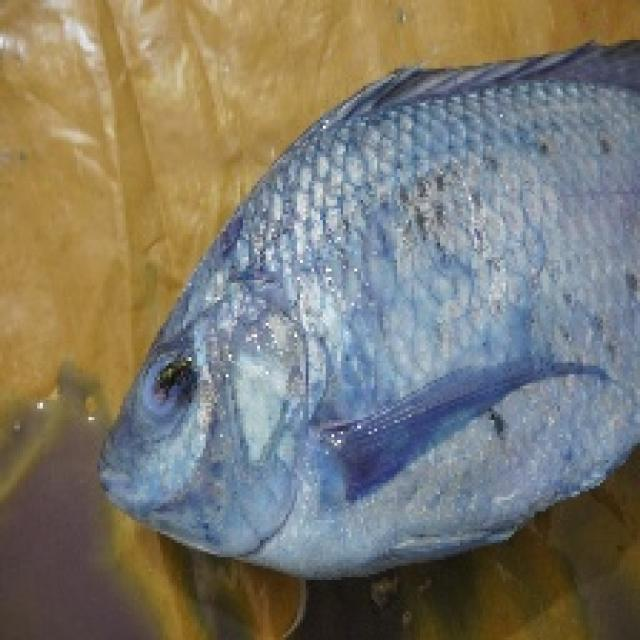Non-Fresh: (212, 136, 608, 558), (120, 348, 233, 434)
